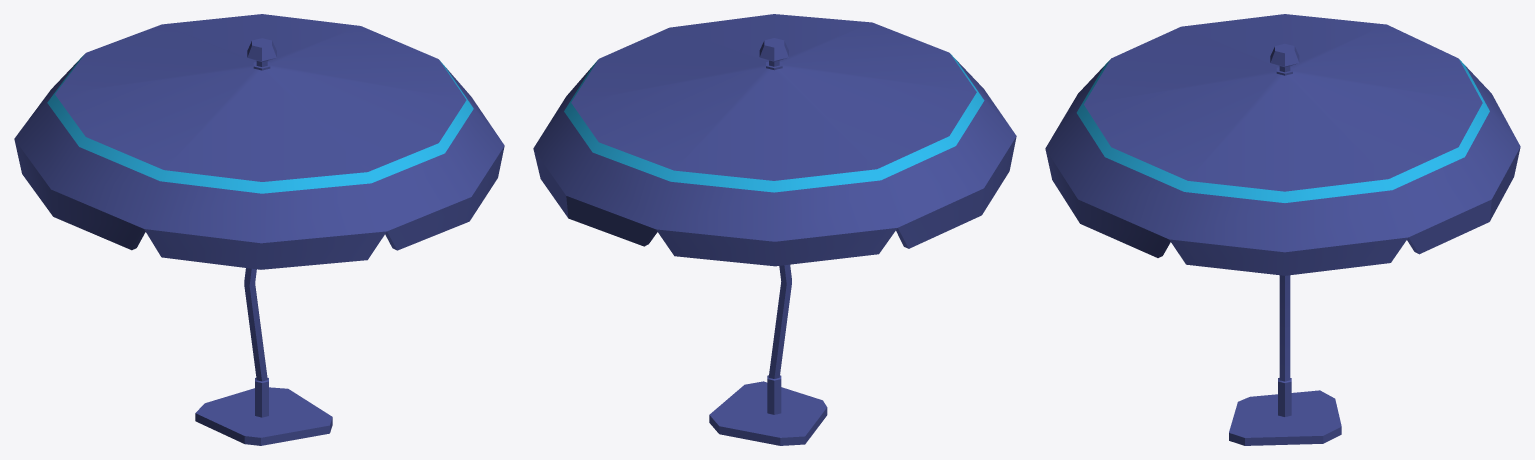
File: SM_Parasol_01.fbx
3 views of the same model, side by side, from view 1: azimuth 30°, elevation 25°; view 2: azimuth 150°, elevation 25°; view 3: azimuth 270°, elevation 25° (orthographic).
Visible parts, largest first — view 1: SM_Parasol_01; view 2: SM_Parasol_01; view 3: SM_Parasol_01.
Part boxes in pixels (bbox=[...]): SM_Parasol_01: bbox=[14, 14, 504, 445]; SM_Parasol_01: bbox=[533, 14, 1016, 445]; SM_Parasol_01: bbox=[1045, 14, 1520, 445].
Size of the model in its own units: 1375 by 1185 by 1368.
